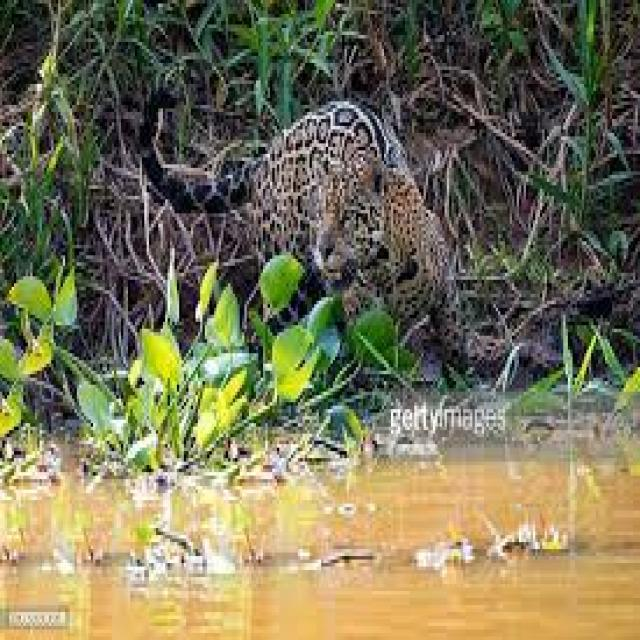Jaguar: (137, 66, 570, 392)
